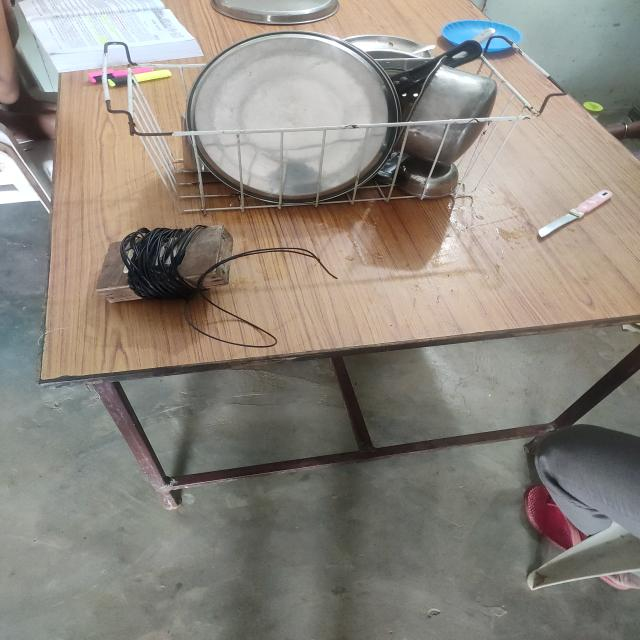plate: (187, 32, 398, 203), (446, 19, 521, 53)
